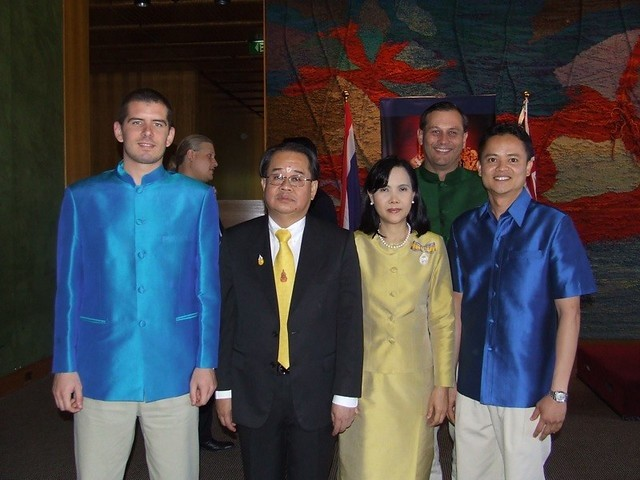face_no_mask: (114, 91, 176, 165), (259, 141, 313, 221), (476, 123, 535, 196), (367, 158, 418, 225), (418, 104, 467, 169), (179, 134, 216, 183)
